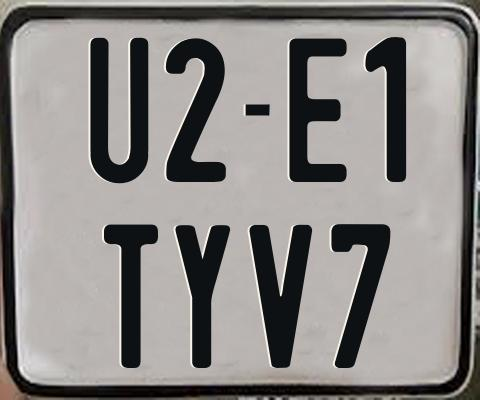1: (365, 34, 410, 184)
2: (164, 37, 224, 186)
7: (328, 222, 393, 366)
E: (288, 37, 348, 183)
T: (103, 222, 157, 372)
U: (90, 35, 153, 184)
V: (250, 222, 313, 369)
Y: (173, 225, 231, 369)
